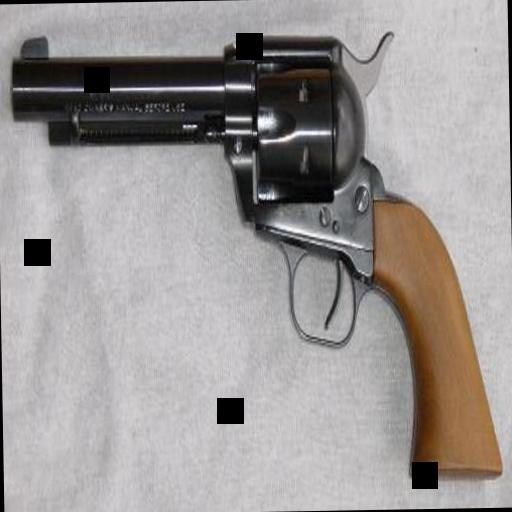Handgun: (8, 23, 502, 489)
